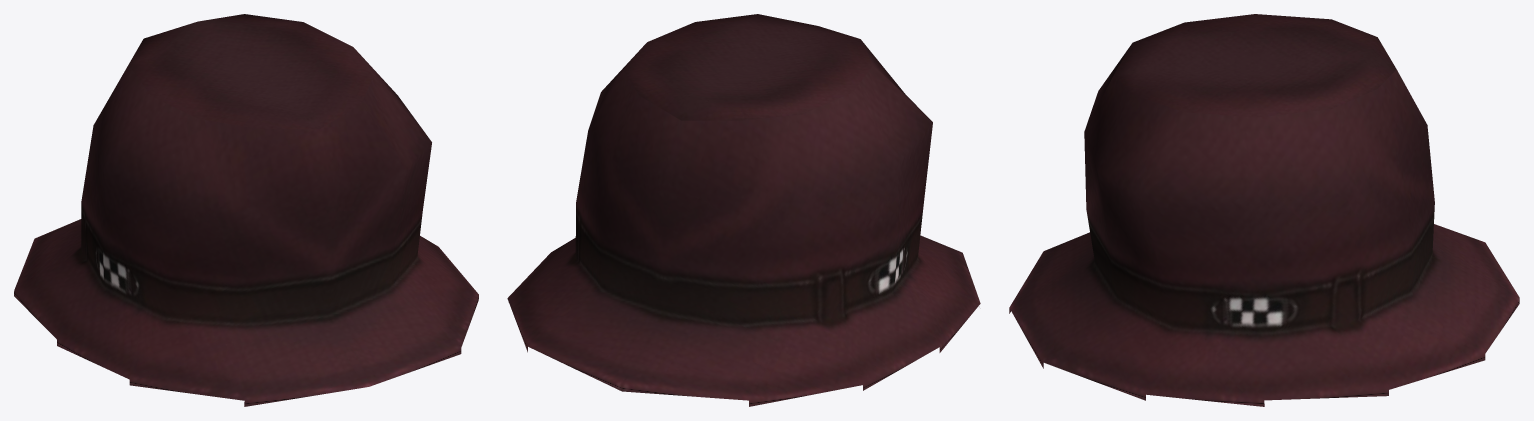
The model's file is englishHat.glb.
3 renders of one model, left to right at view 1: azimuth 30°, elevation 25°; view 2: azimuth 150°, elevation 25°; view 3: azimuth 270°, elevation 25°, orthographic. The views are drawn at different scales.
Parts seen in each view (by area): view 1: englishHat; view 2: englishHat; view 3: englishHat.
Part boxes in pixels (bbox=[...]): englishHat: bbox=[14, 14, 478, 406]; englishHat: bbox=[507, 14, 980, 406]; englishHat: bbox=[1009, 14, 1519, 406].
Size of the model in its own units: 0.3978 by 0.2452 by 0.4379.
Materials: 1 (1 with a texture image).
